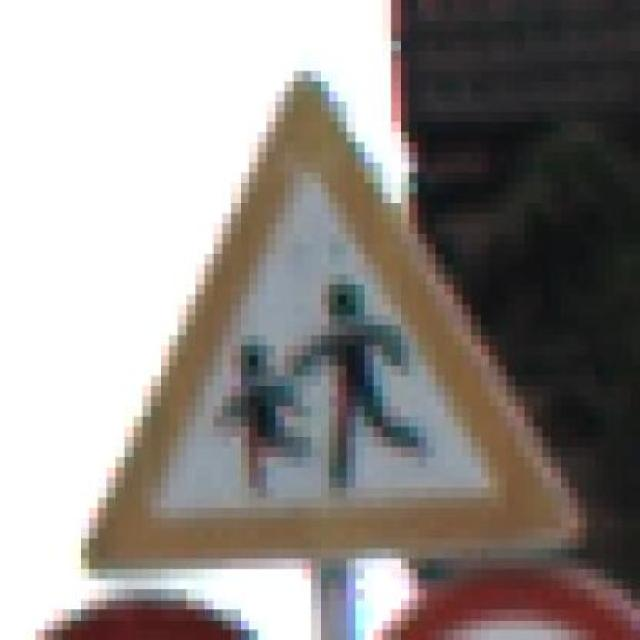Beware of children: (71, 50, 595, 579)
